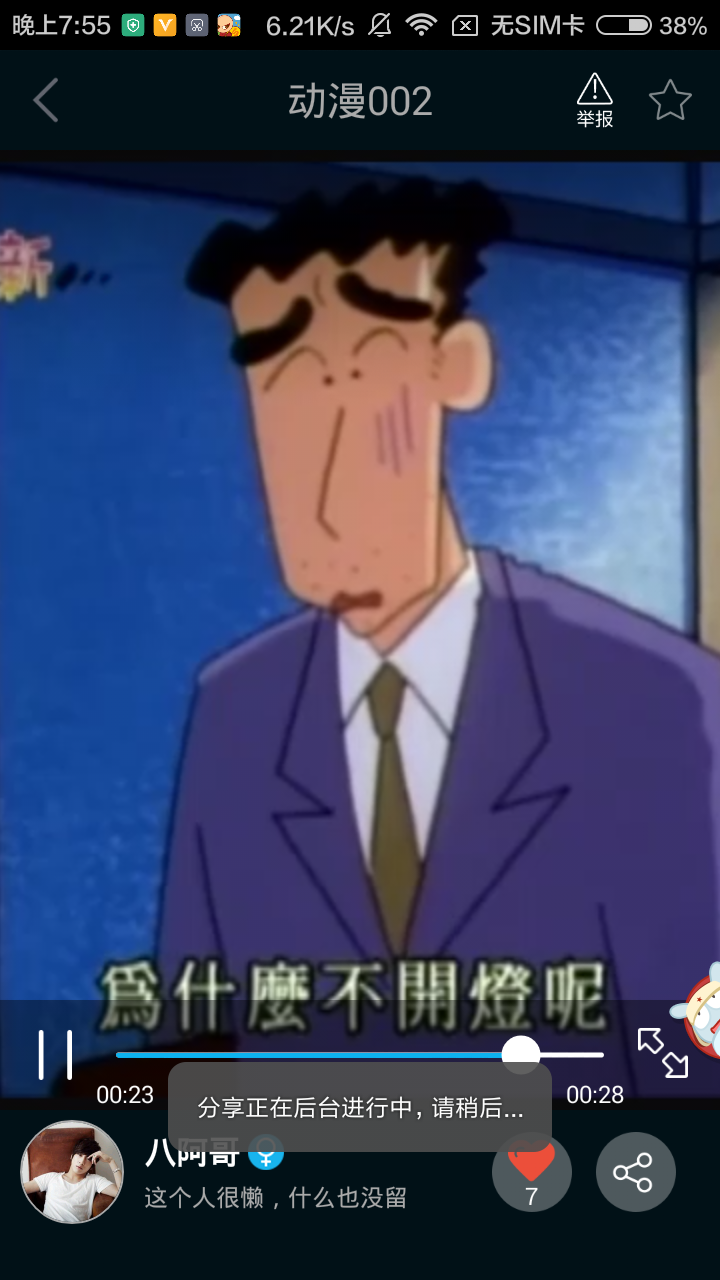alert: (164, 1060, 556, 1154)
imgbutton: (590, 1117, 682, 1218), (644, 75, 705, 129)
imgview: (17, 1114, 128, 1231)
